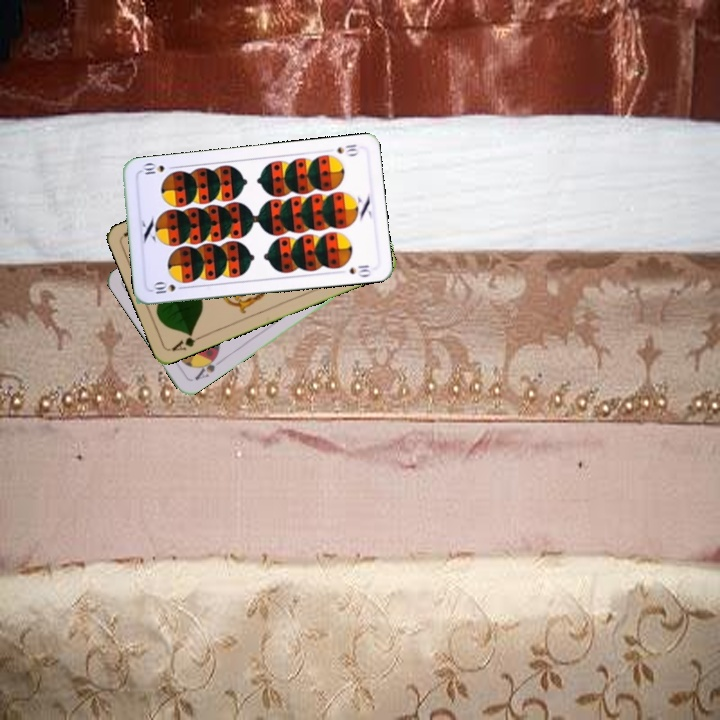GA: (168, 328, 206, 353)
S10: (148, 279, 189, 296), (333, 140, 361, 158)
SA: (191, 350, 221, 383)
